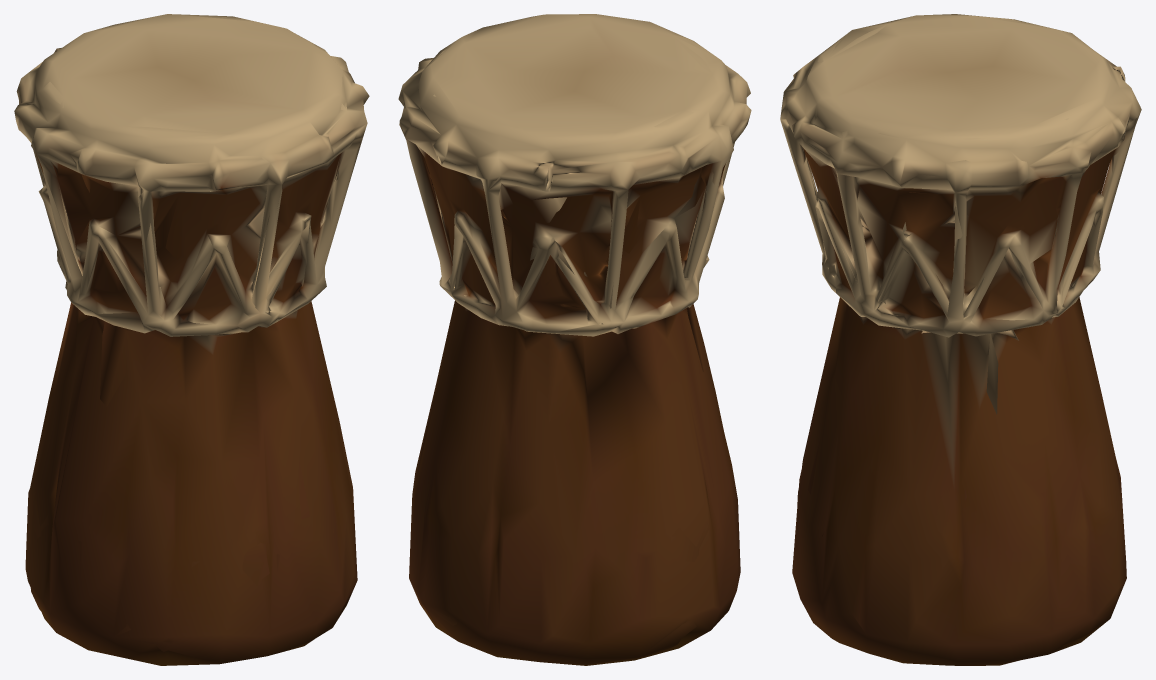
File: gen3d-tribal-drum-lod0.glb
3 views of the same model, side by side, from view 1: azimuth 30°, elevation 25°; view 2: azimuth 150°, elevation 25°; view 3: azimuth 270°, elevation 25° (orthographic).
Visible parts, largest first — view 1: part_0; view 2: part_0; view 3: part_0.
Part boxes in pixels (bbox=[...]): part_0: bbox=[14, 14, 369, 665]; part_0: bbox=[398, 14, 751, 665]; part_0: bbox=[780, 14, 1141, 665].
Size of the model in its own units: 0.6209 by 1 by 0.6179.
